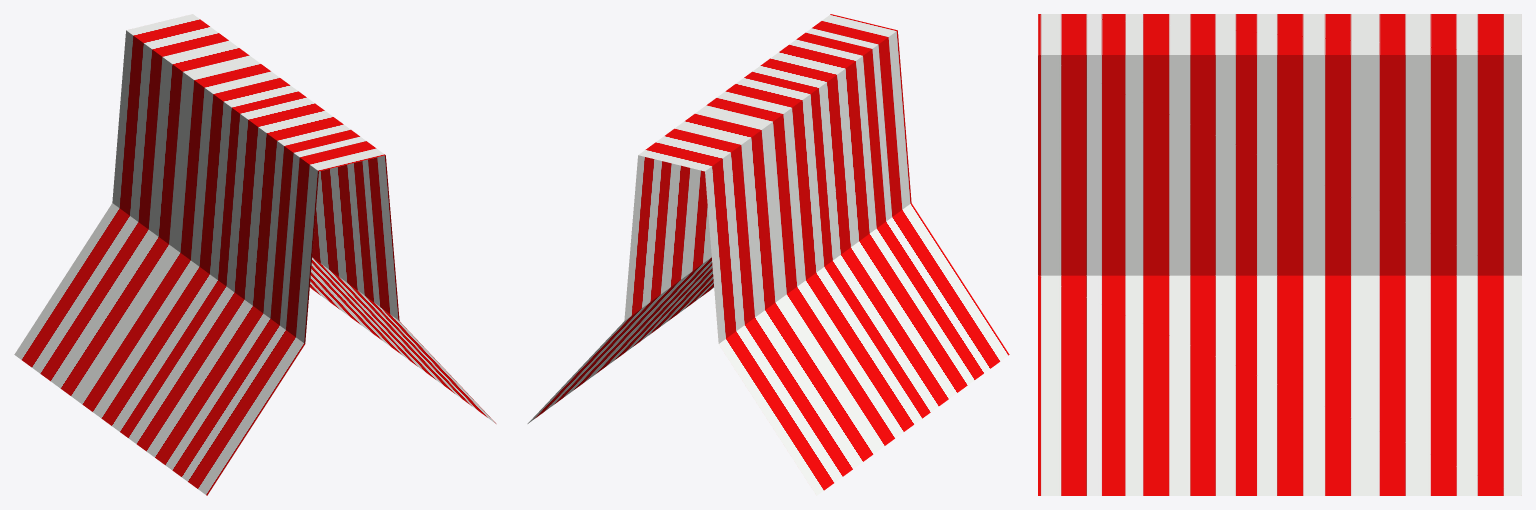
Rendered from Block.fbx.
3 renders of one model, left to right at view 1: azimuth 30°, elevation 25°; view 2: azimuth 150°, elevation 25°; view 3: azimuth 270°, elevation 25°, orthographic. The views are drawn at different scales.
Visible parts, largest first — view 1: Plane; view 2: Plane; view 3: Plane.
Boxes of the visible parts, <box> form: Plane: <box>14,14,496,495</box>; Plane: <box>527,14,1009,495</box>; Plane: <box>1038,14,1521,495</box>.
Size of the model in its own units: 174 by 170 by 200.
